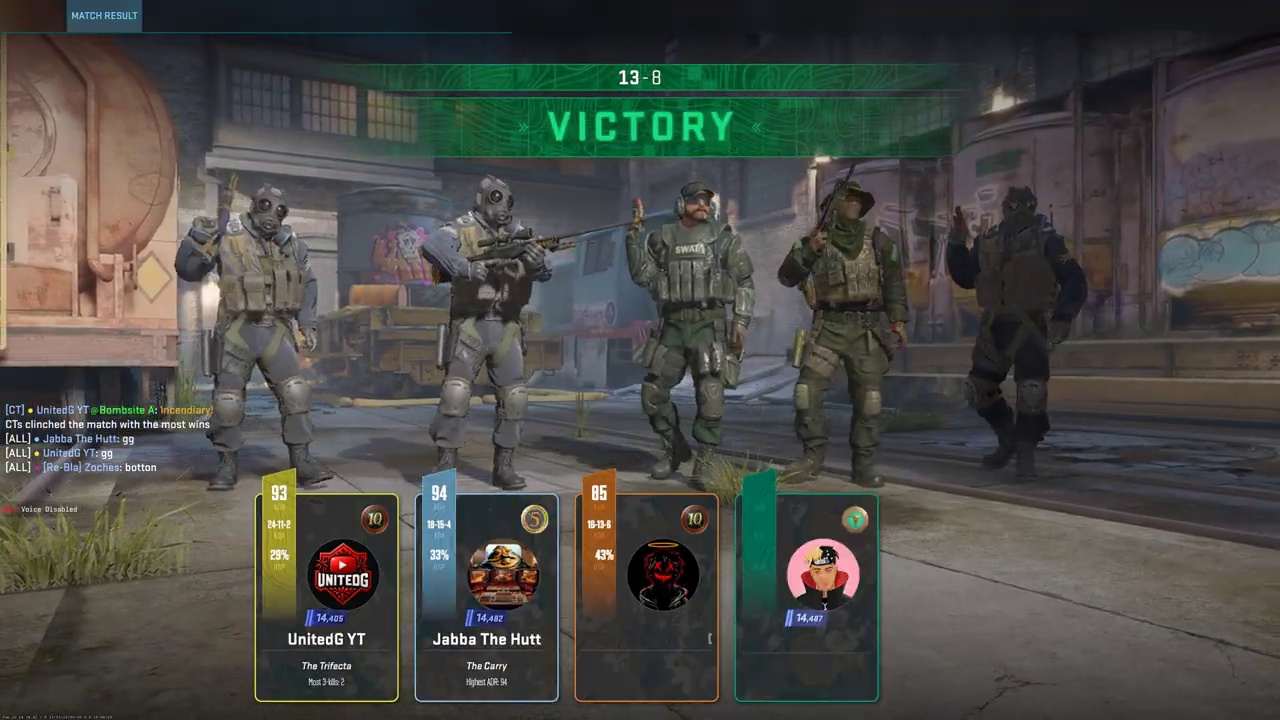CT: (200, 186, 335, 487), (425, 175, 551, 488), (632, 182, 747, 484), (788, 179, 901, 485), (958, 186, 1072, 480)
